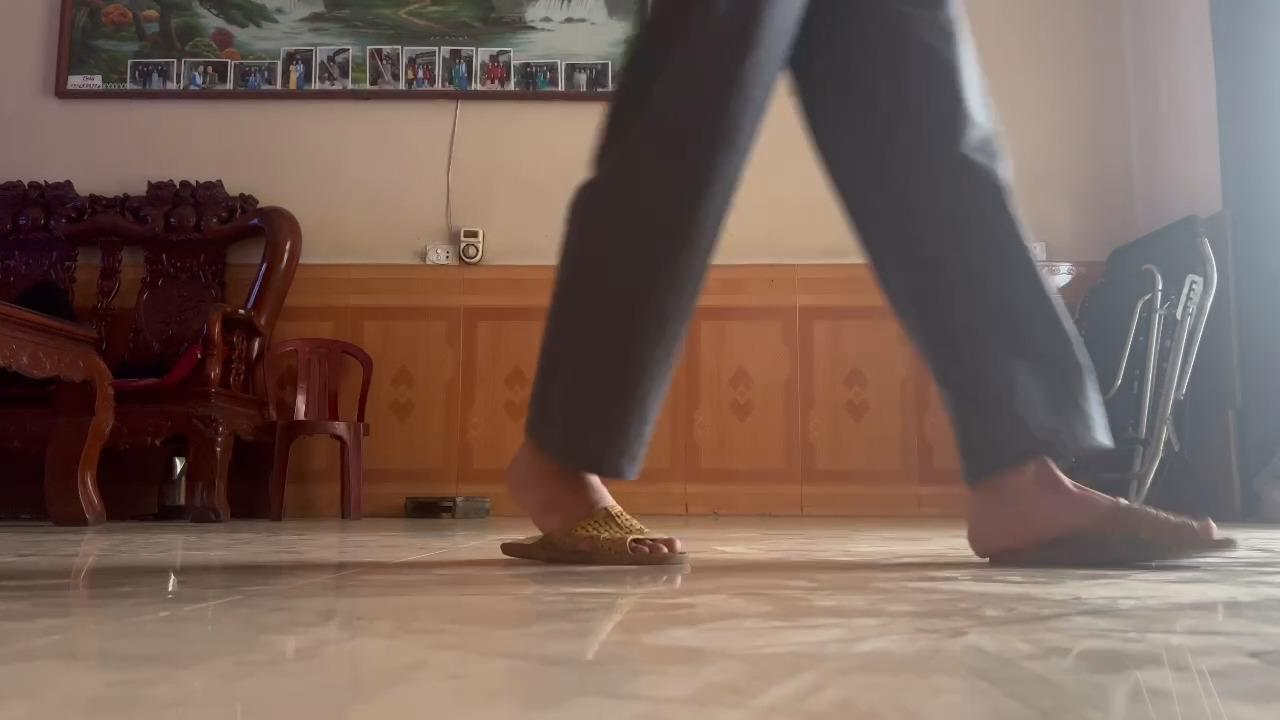no-boot: (495, 449, 694, 574), (959, 490, 1244, 574)
